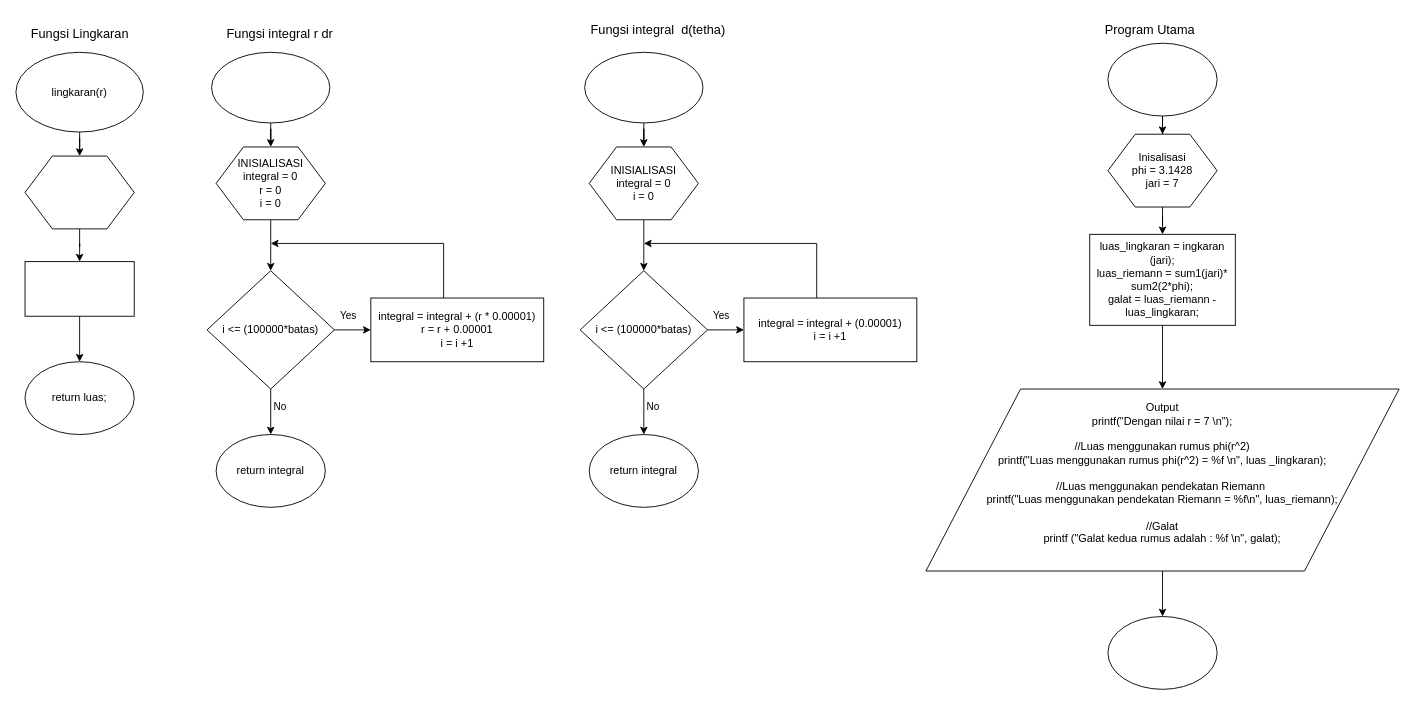
This 1415x705 diagram has some shape labels left out. Here are the shapes that lost their labels. From the top down, the centre of each, then its label:
At [270,87]: "sum1(batas)".
At [643,87]: "sum2(batas)".
At [1162,79]: "START".
At [79,192]: "luas = 0;".
At [79,288]: "luas = phi * r *r ;".
At [1162,652]: "END".
